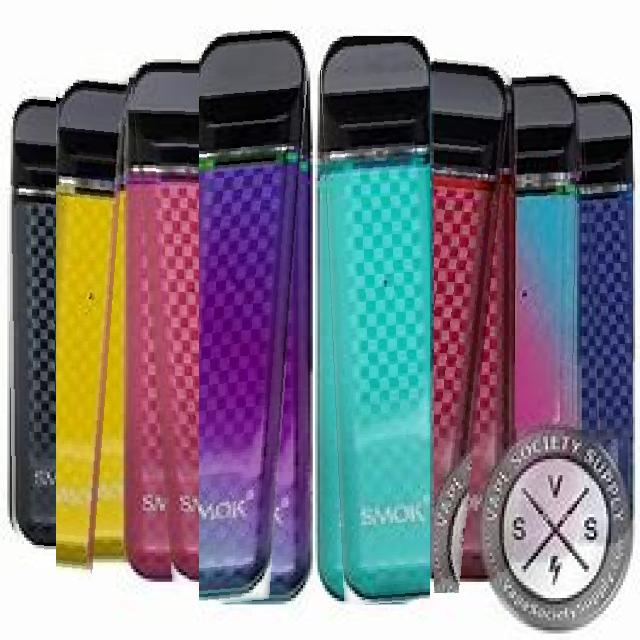Vapes: (199, 30, 312, 609), (319, 36, 430, 606), (434, 32, 516, 593), (128, 40, 204, 582), (56, 55, 130, 580), (6, 84, 62, 556), (515, 52, 578, 428), (580, 80, 632, 440)
